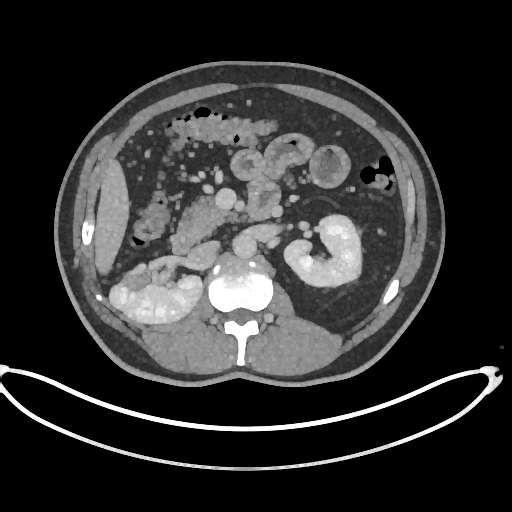Lesion: (120, 270, 155, 297)
